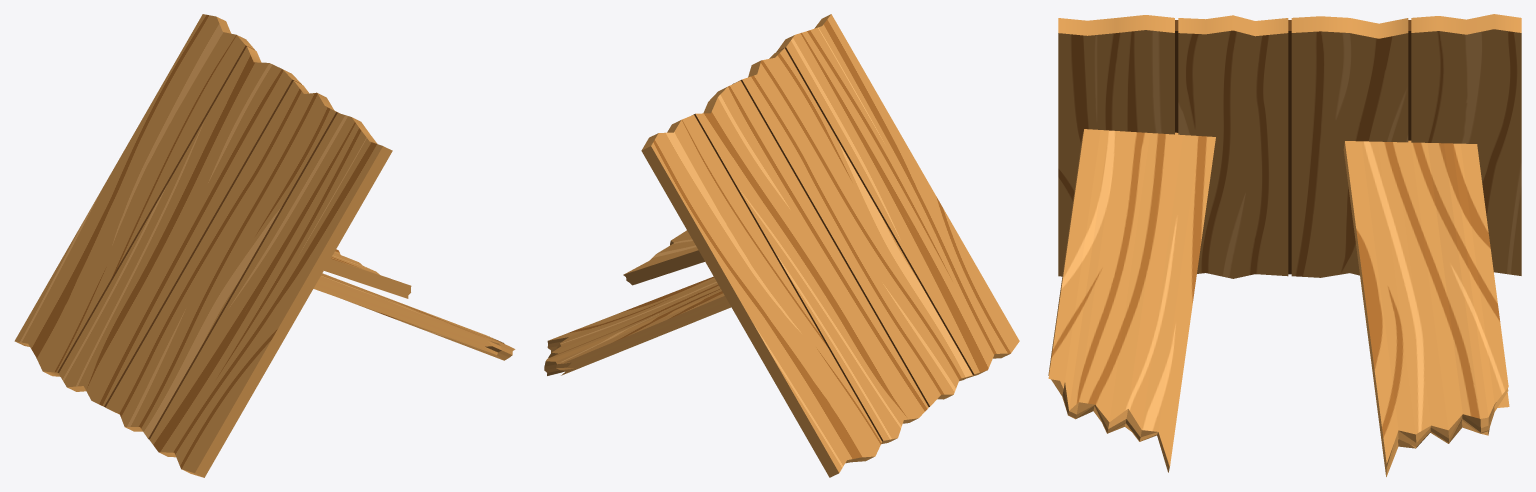
Rendered from ita.fbx.
3 renders of one model, left to right at view 1: azimuth 30°, elevation 25°; view 2: azimuth 150°, elevation 25°; view 3: azimuth 270°, elevation 25°, orthographic. The views are drawn at different scales.
Visible parts, largest first — view 1: pCube24, pCube22, pCube25; view 2: pCube24, pCube25, pCube22; view 3: pCube24, pCube25, pCube22.
Part boxes in pixels (left/top/right/bottom): pCube24: left=14, top=14, right=392, bottom=477; pCube22: left=313, top=273, right=515, bottom=360; pCube25: left=324, top=249, right=411, bottom=298; pCube24: left=641, top=14, right=1019, bottom=477; pCube25: left=544, top=276, right=730, bottom=375; pCube22: left=623, top=230, right=704, bottom=285; pCube24: left=1058, top=14, right=1521, bottom=278; pCube25: left=1343, top=140, right=1509, bottom=476; pCube22: left=1048, top=129, right=1215, bottom=472.
Size of the model in its own units: 398 by 318 by 356.
